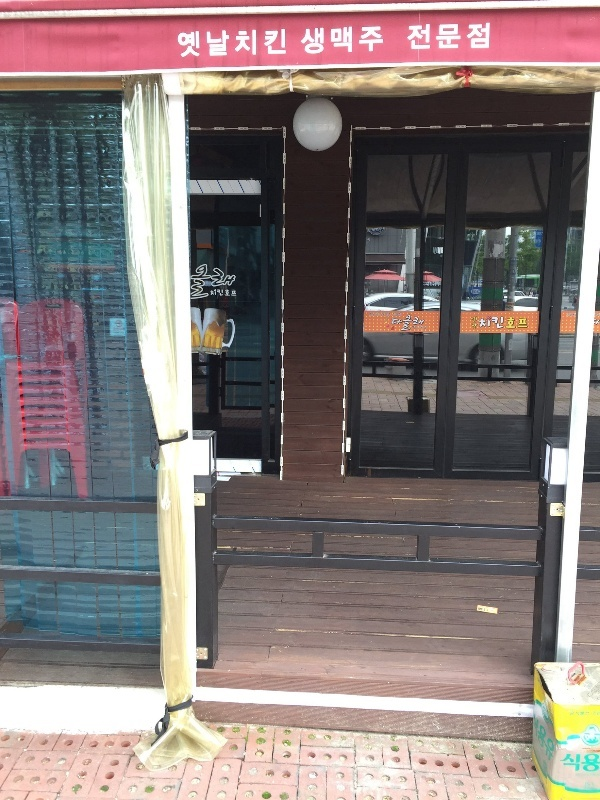text: (225, 263, 241, 301), (545, 713, 556, 766), (193, 263, 208, 301), (209, 263, 224, 301), (534, 713, 544, 766), (177, 26, 192, 60), (193, 26, 208, 60), (209, 26, 224, 60), (225, 26, 240, 60), (241, 26, 256, 60), (257, 26, 272, 60), (305, 23, 320, 57), (321, 23, 336, 57), (337, 23, 352, 57), (353, 23, 368, 57), (369, 23, 384, 57), (417, 21, 432, 53), (433, 21, 448, 53), (449, 21, 464, 53), (465, 21, 480, 53), (273, 26, 287, 60), (406, 21, 416, 53), (481, 21, 491, 53), (561, 753, 576, 774), (577, 753, 592, 774), (401, 314, 416, 332), (481, 314, 496, 330), (513, 317, 529, 330), (593, 753, 600, 774), (392, 314, 400, 332), (417, 314, 425, 332), (300, 23, 304, 57), (471, 316, 480, 330), (210, 288, 224, 297), (546, 711, 560, 720), (225, 289, 240, 297), (433, 247, 448, 255), (497, 314, 504, 330), (113, 326, 128, 333), (577, 711, 591, 717), (190, 263, 192, 301), (369, 313, 384, 318), (385, 313, 400, 318), (423, 280, 432, 288), (584, 734, 592, 743), (507, 317, 512, 330), (433, 280, 441, 288), (593, 734, 600, 743), (536, 238, 544, 244), (567, 313, 576, 318), (594, 319, 600, 326), (593, 711, 600, 717), (472, 289, 480, 294), (570, 711, 576, 717), (537, 231, 544, 236), (385, 23, 386, 57), (595, 313, 600, 318), (545, 706, 547, 716), (479, 314, 480, 330), (369, 237, 371, 244), (367, 237, 368, 244), (591, 711, 592, 717), (401, 313, 402, 318)
